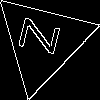Z: (18, 16, 70, 58)
